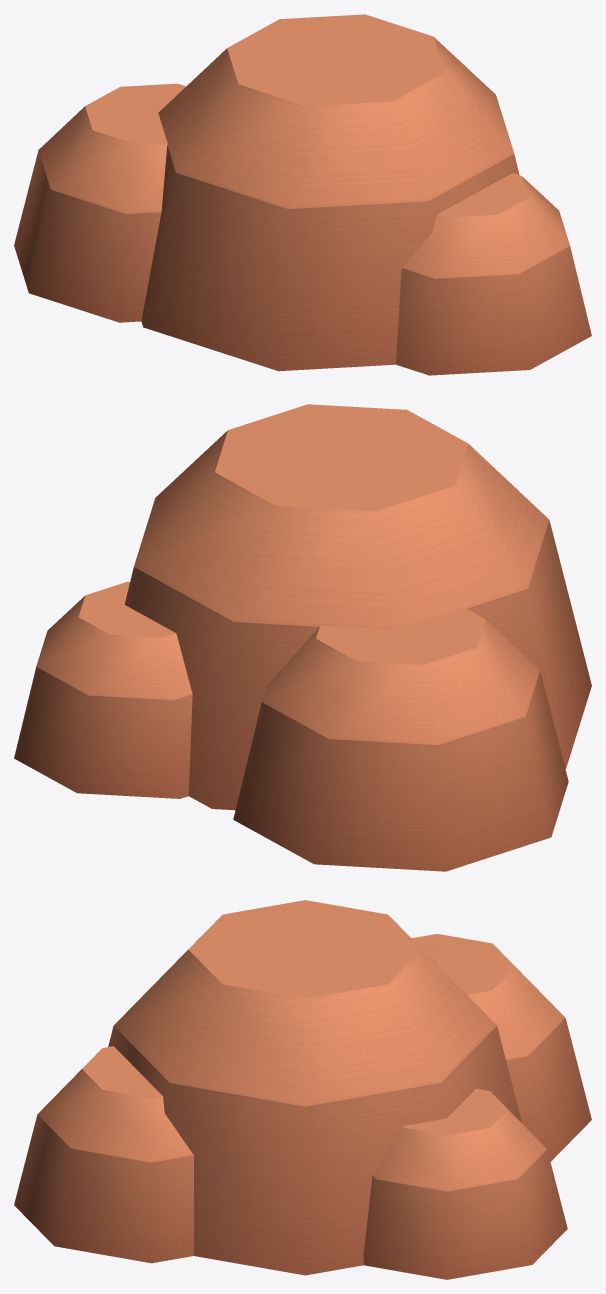
Rendered from cargo-pile-a.glb.
The picture shows the model from 3 angles, top to bottom: view 1: azimuth 30°, elevation 25°; view 2: azimuth 150°, elevation 25°; view 3: azimuth 270°, elevation 25°; orthographic projection. The views are drawn at different scales.
Visible parts, largest first — view 1: cargo-pile-a; view 2: cargo-pile-a; view 3: cargo-pile-a.
Part boxes in pixels (bbox=[...]): cargo-pile-a: bbox=[14, 14, 591, 375]; cargo-pile-a: bbox=[14, 404, 591, 871]; cargo-pile-a: bbox=[14, 900, 591, 1279].
Size of the model in its own units: 8.64 by 4.08 by 9.36.
1 material, 1 textured.
